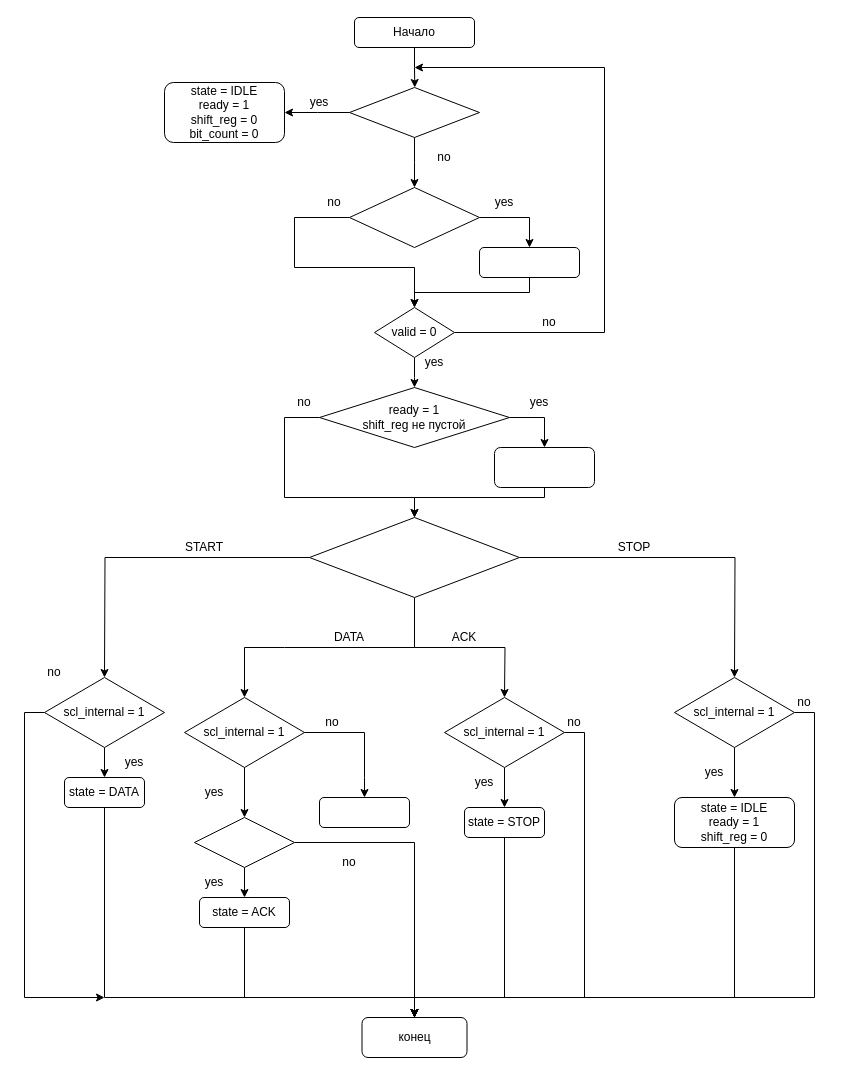
Some shapes in this 852 by 1075 pixel diagram are drawn without their labels. The shapes that lost their labels are listed below. From the top down, each one's centre as x and y in pixels, then its label:
point (414, 112): reset = 1
point (414, 217): ready = 1 && valid = 1
point (529, 262): shift_reg = data
point (544, 467): ready = 0 state = START
point (414, 557): Считывание значения state
point (364, 812): bit_count += 1
point (244, 842): bit_count = 7
